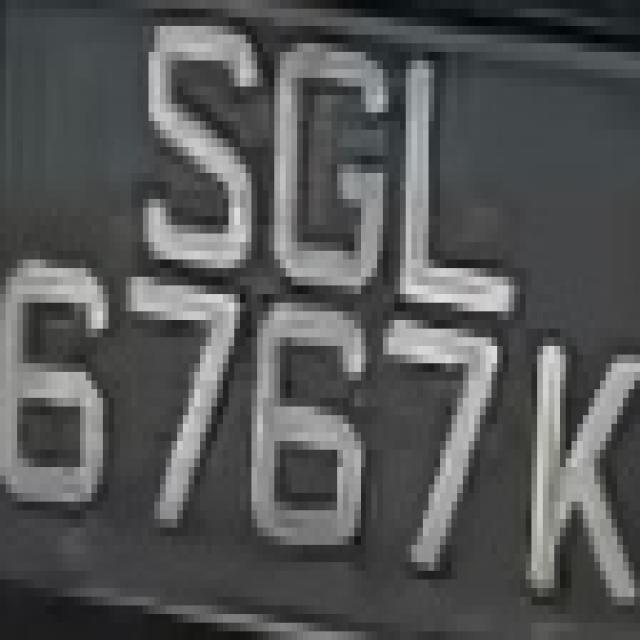6: (257, 268, 377, 588), (11, 208, 126, 528)
7: (103, 251, 251, 553), (366, 286, 503, 588)
G: (252, 35, 388, 294)
K: (508, 302, 640, 614)
L: (383, 26, 526, 346)
S: (132, 26, 257, 311)
